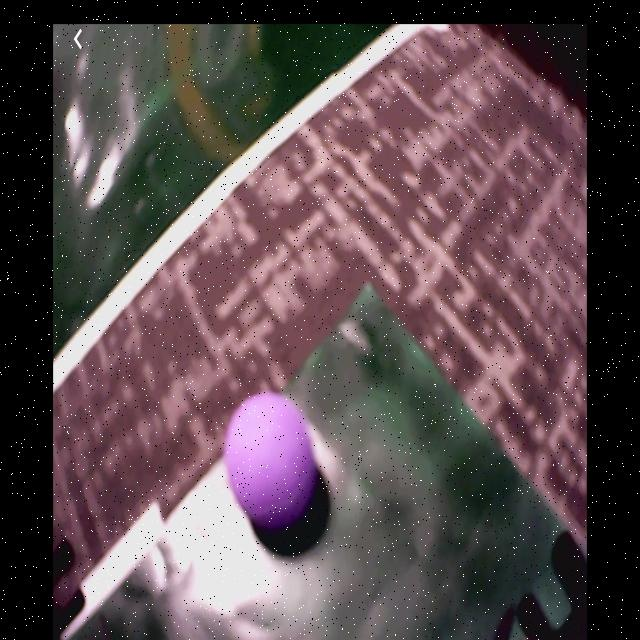ball: (229, 392, 316, 526)
